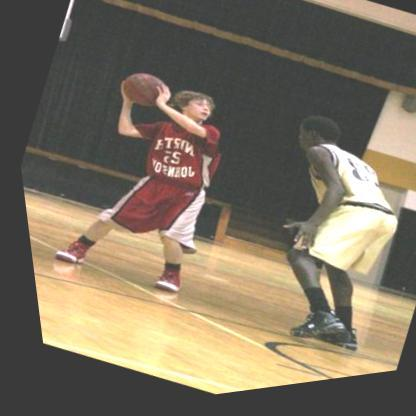basketball: (114, 66, 172, 119)
